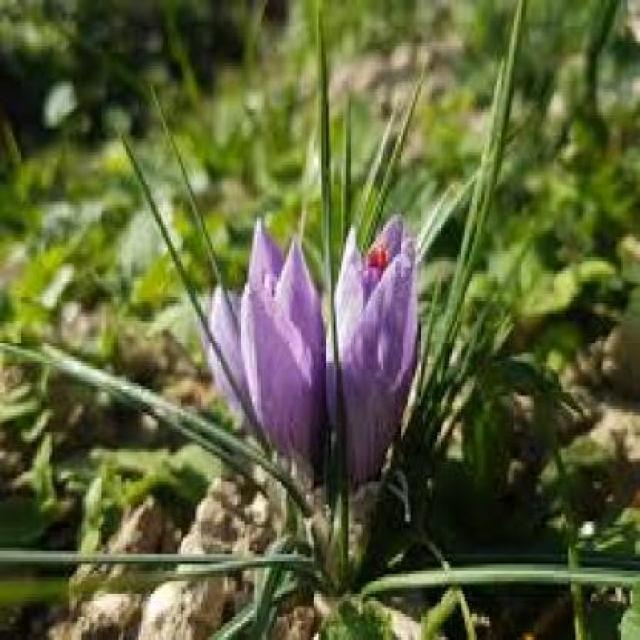Flower: (208, 221, 329, 493), (322, 216, 416, 492)
